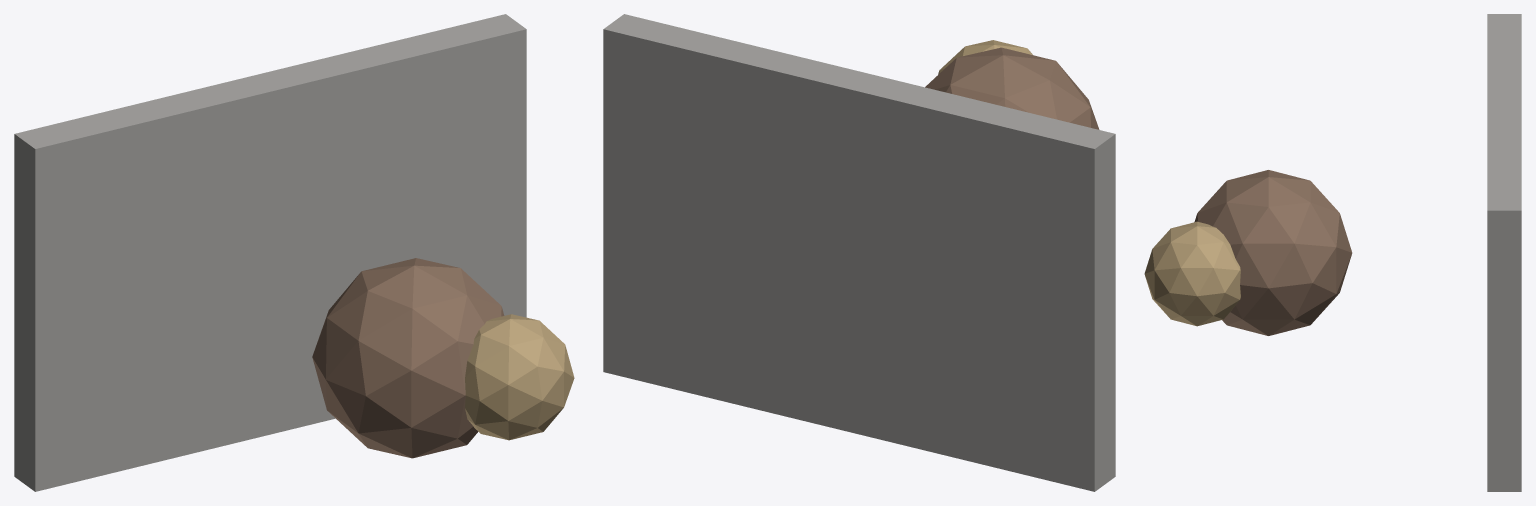
The picture shows the model from 3 angles, left to right: view 1: azimuth 30°, elevation 25°; view 2: azimuth 150°, elevation 25°; view 3: azimuth 270°, elevation 25°; orthographic projection. The views are drawn at different scales.
Parts seen in each view (by area): view 1: H22_part_0, H22_part_1, H22_part_2; view 2: H22_part_0, H22_part_1, H22_part_2; view 3: H22_part_1, H22_part_0, H22_part_2.
Boxes of the visible parts, left/top/right/bottom form: H22_part_0: left=14, top=14, right=526, bottom=491; H22_part_1: left=312, top=258, right=504, bottom=458; H22_part_2: left=465, top=314, right=574, bottom=440; H22_part_0: left=603, top=14, right=1115, bottom=491; H22_part_1: left=925, top=47, right=1099, bottom=129; H22_part_2: left=938, top=40, right=1032, bottom=74; H22_part_1: left=1194, top=170, right=1352, bottom=335; H22_part_0: left=1487, top=14, right=1521, bottom=491; H22_part_2: left=1144, top=221, right=1240, bottom=326.
Size of the model in its own units: 1.5 by 1 by 1.22.
